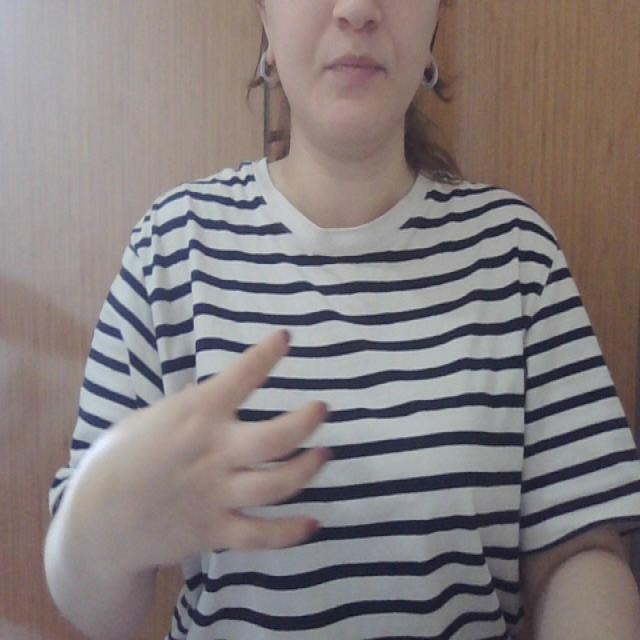Anne: (62, 317, 345, 570)
